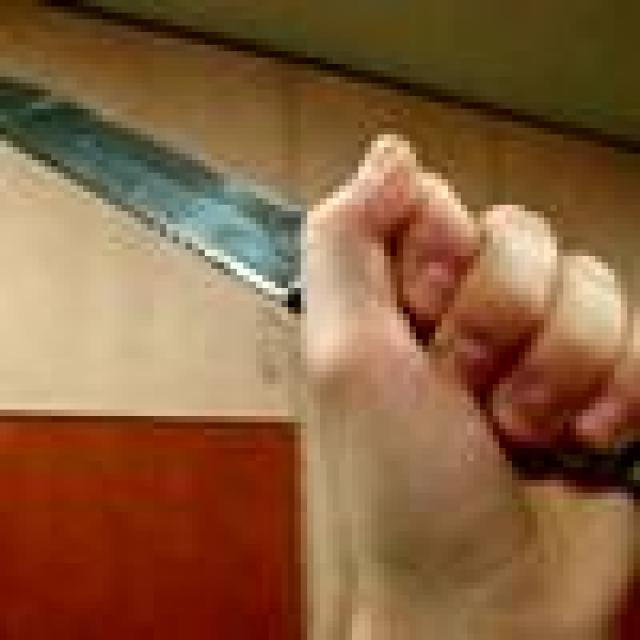faca: (0, 45, 640, 614)
